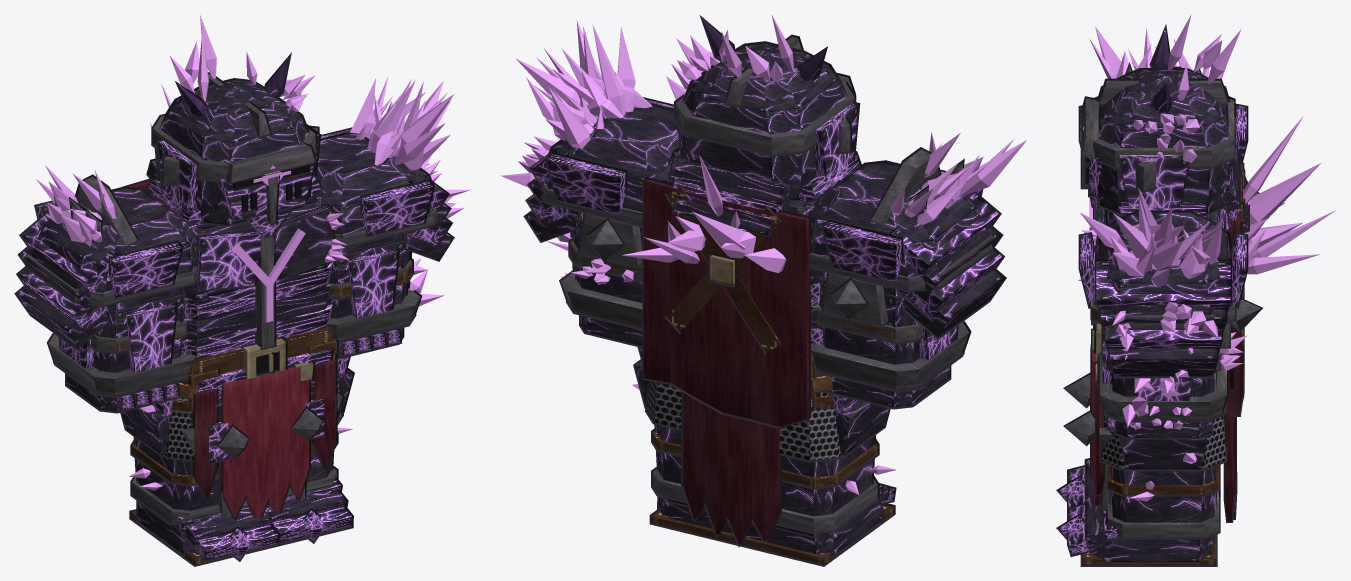
The model's file is KnightBlighted.fbx.
3 renders of one model, left to right at view 1: azimuth 30°, elevation 25°; view 2: azimuth 150°, elevation 25°; view 3: azimuth 270°, elevation 25°, orthographic. The views are drawn at different scales.
Parts seen in each view (by area): view 1: LowerTorso_Armor, Head_Armor, RightUpperArm_Armor, UpperTorso_Armor, LeftUpperArm_Armor, LeftUpperArm_Glow, RightFoot_Armor, RightLowerArm_Armor, LeftLowerArm_Armor, RightLowerLeg_Armor, RightHand_Armor, LeftFoot_Armor (+16 smaller); view 2: UpperTorso_Armor, Head_Armor, RightUpperArm_Armor, LowerTorso_Armor, LeftUpperArm_Armor, LeftUpperArm_Glow, RightLowerArm_Armor, RightHand_Armor, RightFoot_Armor, RightLowerLeg_Armor, UpperTorso_Glow, RightUpperArm_Glow (+15 smaller); view 3: Head_Armor, LeftUpperArm_Armor, LeftUpperArm_Glow, LeftFoot_Armor, LowerTorso_Armor, LeftLowerLeg_Armor, UpperTorso_Glow, LeftHand_Armor, Head_Glow, LeftLowerArm_Armor, Head_ArmorOutline, UpperTorso_Armor (+13 smaller).
Part boxes in pixels (x1,y1,x2,y2): LowerTorso_Armor: [122, 327, 352, 518]; Head_Armor: [148, 54, 319, 236]; RightUpperArm_Armor: [16, 176, 197, 352]; UpperTorso_Armor: [128, 176, 333, 359]; LeftUpperArm_Armor: [316, 129, 452, 297]; LeftUpperArm_Glow: [350, 76, 470, 218]; RightFoot_Armor: [131, 477, 278, 564]; RightLowerArm_Armor: [54, 291, 188, 394]; LeftLowerArm_Armor: [329, 236, 414, 339]; RightLowerLeg_Armor: [132, 422, 247, 519]; RightHand_Armor: [48, 334, 195, 411]; LeftFoot_Armor: [264, 468, 352, 544]; UpperTorso_Armor: [644, 149, 860, 426]; Head_Armor: [670, 17, 858, 235]; RightUpperArm_Armor: [808, 149, 1004, 342]; LowerTorso_Armor: [635, 347, 888, 544]; LeftUpperArm_Armor: [526, 99, 679, 280]; LeftUpperArm_Glow: [500, 20, 652, 187]; RightLowerArm_Armor: [815, 273, 962, 388]; RightHand_Armor: [811, 322, 969, 407]; RightFoot_Armor: [732, 479, 894, 564]; RightLowerLeg_Armor: [775, 436, 877, 535]; UpperTorso_Glow: [622, 154, 786, 273]; RightUpperArm_Glow: [891, 132, 1026, 224]; Head_Armor: [1082, 26, 1247, 232]; LeftUpperArm_Armor: [1080, 212, 1246, 376]; LeftUpperArm_Glow: [1080, 187, 1222, 350]; LeftFoot_Armor: [1058, 491, 1218, 565]; LowerTorso_Armor: [1092, 323, 1234, 521]; LeftLowerLeg_Armor: [1065, 412, 1218, 522]; UpperTorso_Glow: [1077, 116, 1335, 280]; LeftHand_Armor: [1100, 353, 1226, 437]; Head_Glow: [1083, 14, 1241, 162]; LeftLowerArm_Armor: [1102, 299, 1260, 418]; Head_ArmorOutline: [1080, 24, 1249, 233]; UpperTorso_Armor: [1092, 151, 1242, 415].
Size of the model in its own units: 574 by 625 by 314.
Materials: 5 (3 with a texture image).
